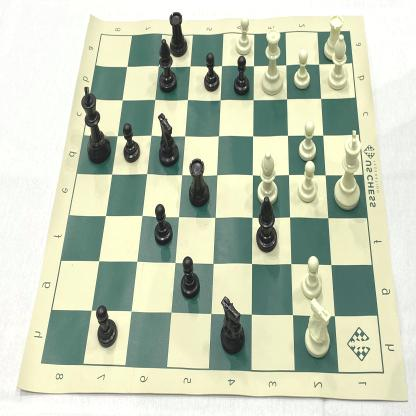black-bishop: (253, 194, 280, 256), (156, 34, 178, 96)
black-king: (80, 83, 112, 167)
black-knight: (215, 291, 248, 359), (156, 110, 180, 172)
black-pawn: (94, 299, 122, 353), (176, 251, 203, 303), (151, 200, 174, 249), (230, 53, 253, 98), (121, 119, 143, 165), (202, 50, 222, 96)
black-rook: (186, 153, 213, 211), (167, 9, 189, 62)
white-bishop: (256, 146, 282, 207), (326, 32, 350, 93)
white-king: (332, 126, 366, 214)
white-knight: (303, 294, 334, 362)
white-pawn: (299, 252, 326, 302), (296, 159, 320, 206), (298, 118, 320, 163), (234, 14, 256, 57), (292, 48, 313, 93)
white-queen: (260, 24, 286, 99)
white-rook: (320, 10, 345, 62)
